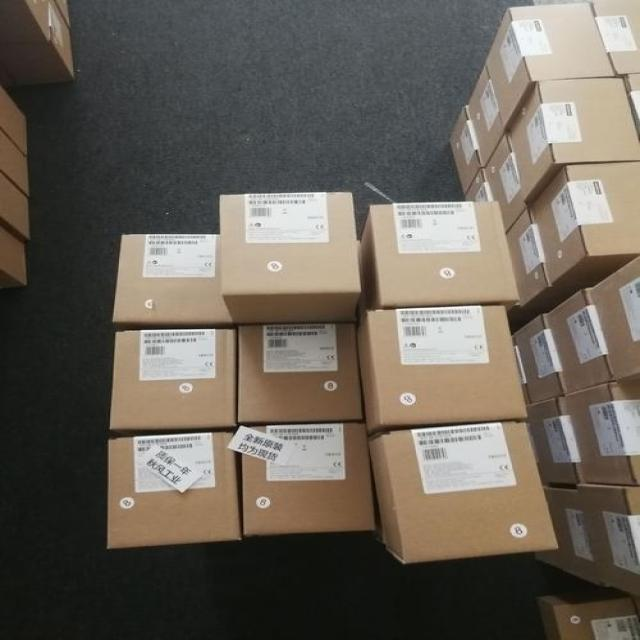box: (367, 420, 561, 565), (358, 292, 530, 437), (218, 191, 361, 325), (357, 201, 521, 310), (484, 3, 617, 132), (506, 76, 640, 201), (106, 431, 242, 551), (238, 422, 376, 538), (531, 161, 640, 288), (110, 328, 237, 436), (236, 322, 364, 424), (113, 234, 234, 327), (535, 482, 611, 589), (507, 207, 581, 313), (566, 381, 640, 486), (547, 288, 616, 394), (579, 483, 639, 598), (0, 0, 76, 85), (591, 256, 639, 382), (538, 586, 640, 640), (526, 395, 586, 484), (512, 313, 567, 403), (483, 133, 532, 232), (465, 63, 506, 168), (590, 0, 640, 76), (448, 105, 483, 197), (0, 170, 31, 243), (0, 128, 29, 199), (0, 85, 27, 155), (0, 225, 28, 289), (512, 335, 532, 404), (621, 73, 640, 139), (463, 168, 493, 201), (54, 0, 70, 28)
